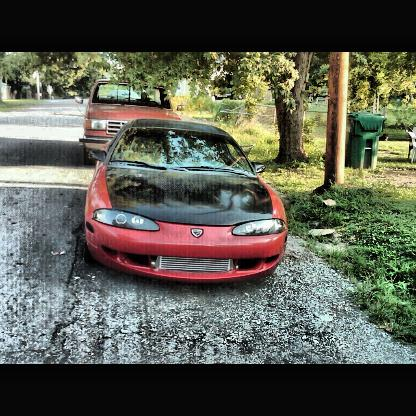Eagle Talon Hatchback 1998: (86, 120, 289, 284)
